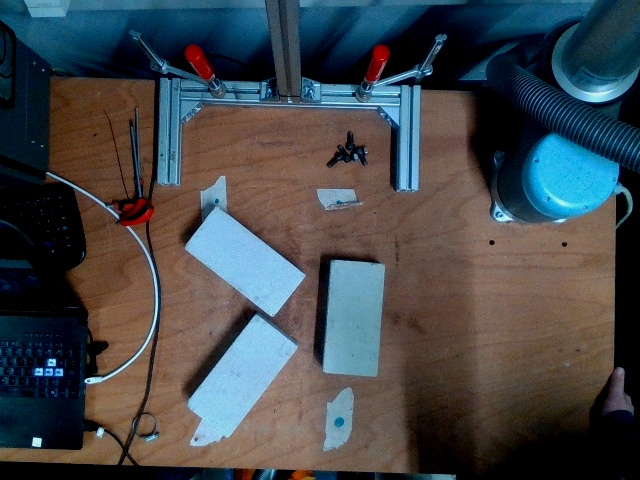brick: (182, 313, 299, 439), (183, 206, 304, 317), (324, 263, 382, 376)
